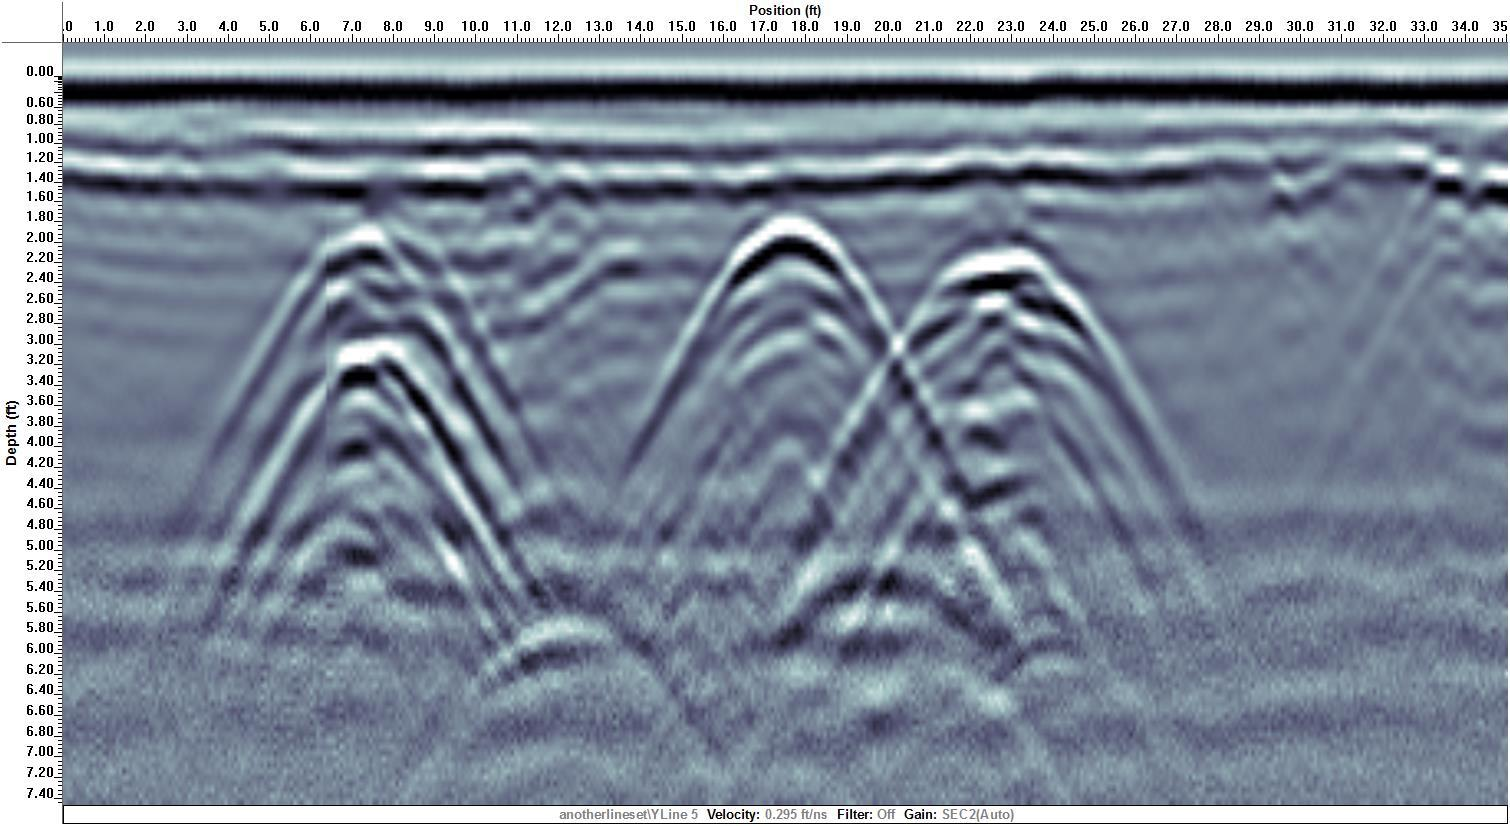hyperbola: (256, 222, 492, 519), (277, 332, 492, 605), (887, 222, 1111, 482), (676, 195, 895, 428)
